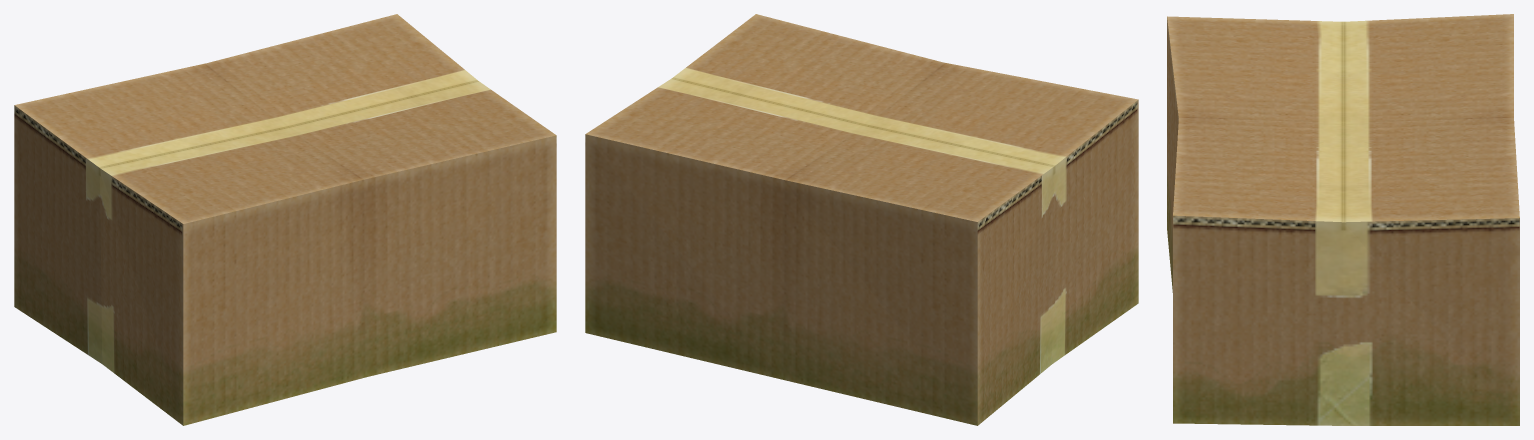
Rendered from cardboardbox_normals.obj.
The picture shows the model from 3 angles, left to right: view 1: azimuth 30°, elevation 25°; view 2: azimuth 150°, elevation 25°; view 3: azimuth 270°, elevation 25°; orthographic projection. The views are drawn at different scales.
Visible parts, largest first — view 1: cardboardbox_Cube; view 2: cardboardbox_Cube; view 3: cardboardbox_Cube.
Part boxes in pixels (box(x1,y1,x2,y2)): cardboardbox_Cube: box(14, 14, 556, 425); cardboardbox_Cube: box(585, 14, 1138, 425); cardboardbox_Cube: box(1167, 14, 1519, 425).
Bounding box in the file's own units: 0.8 × 0.4 × 0.6.
